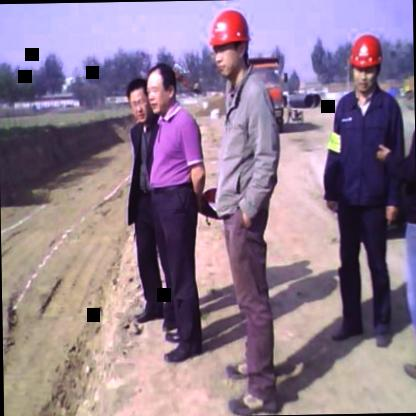head: (143, 60, 177, 116), (121, 72, 150, 121)
helmet: (205, 5, 253, 86), (344, 32, 387, 100)
